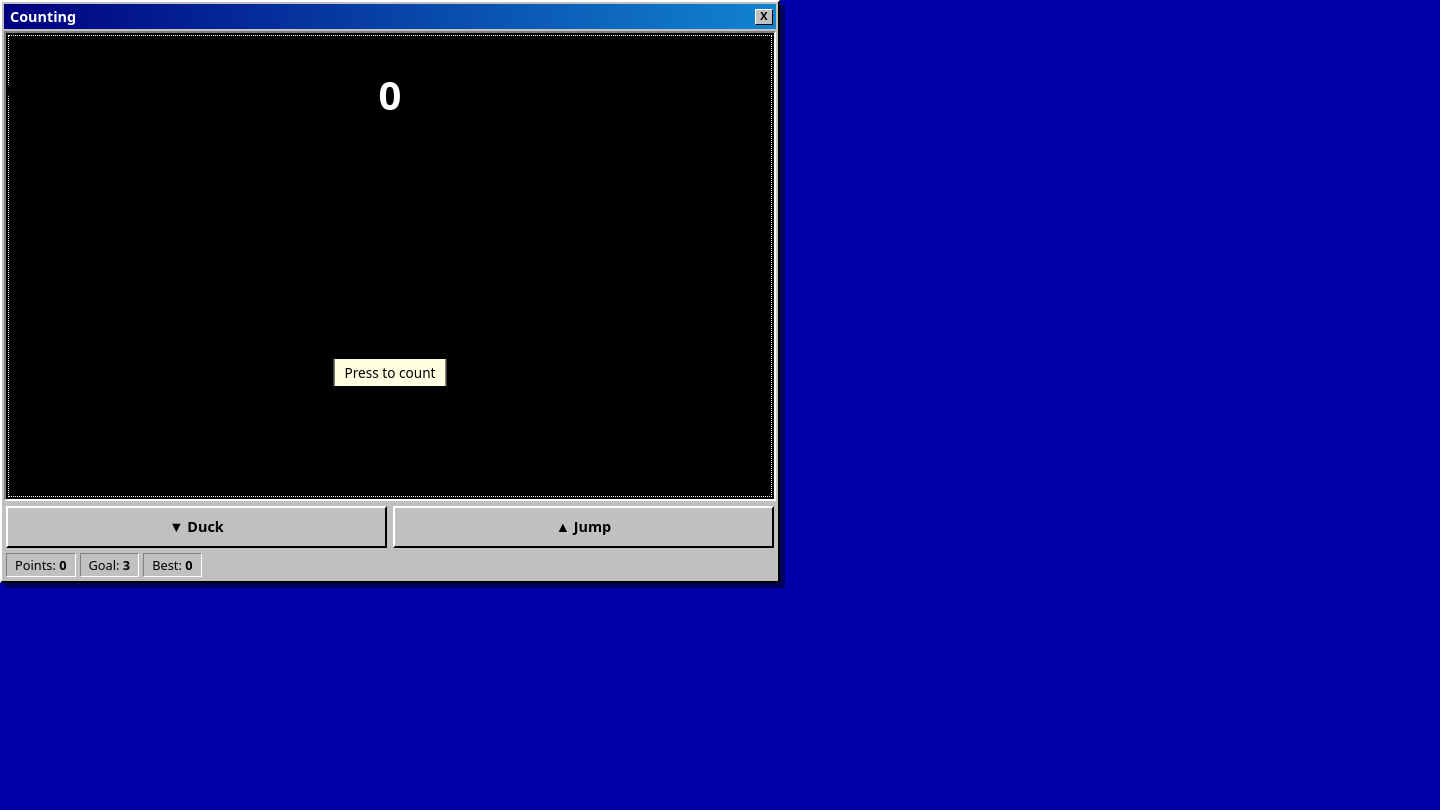
the window a game is played in › should start a new round on "Try again", from nothing
Press Space
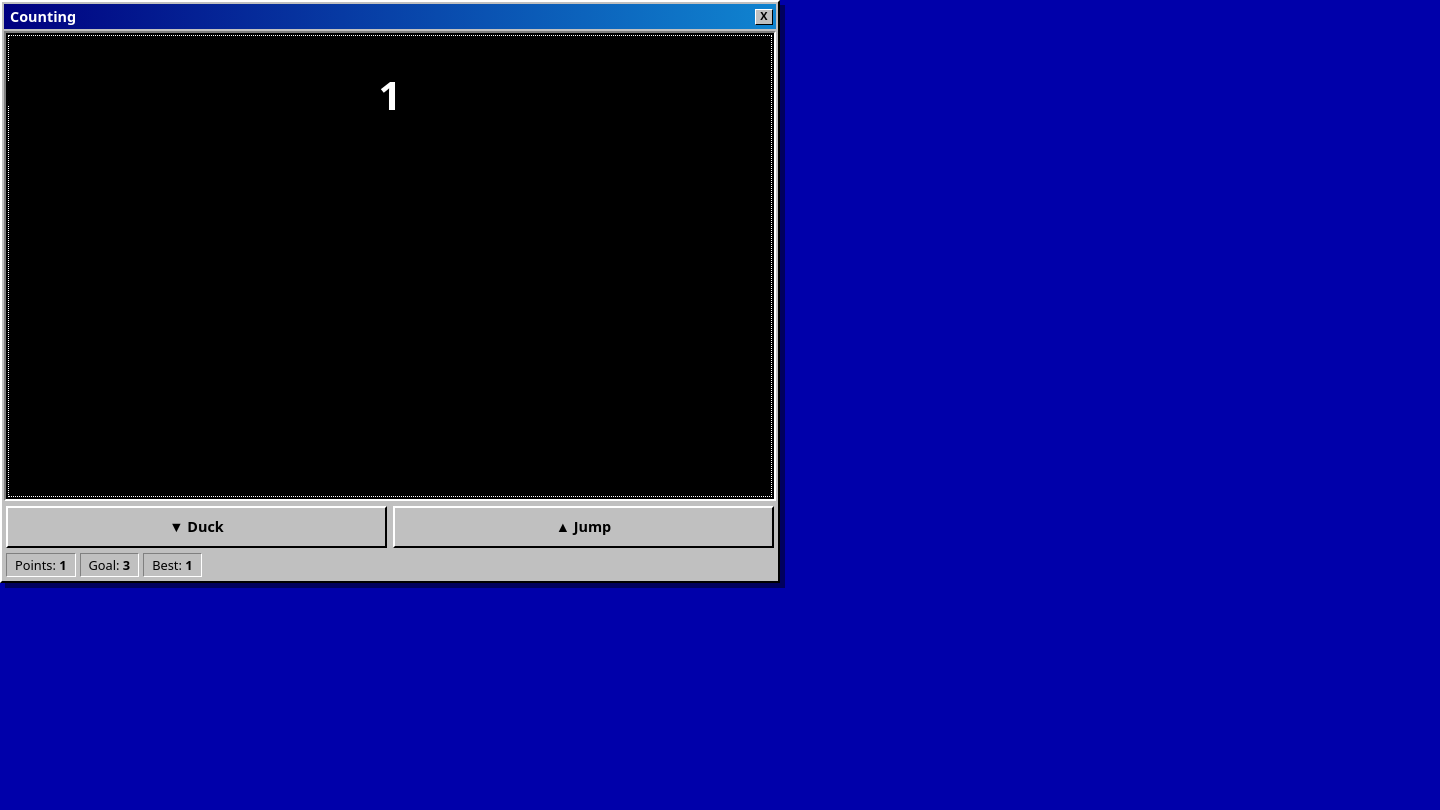
Result: the text "Points:" reads "Points: 1" at [6, 553, 76, 577]
Press Space
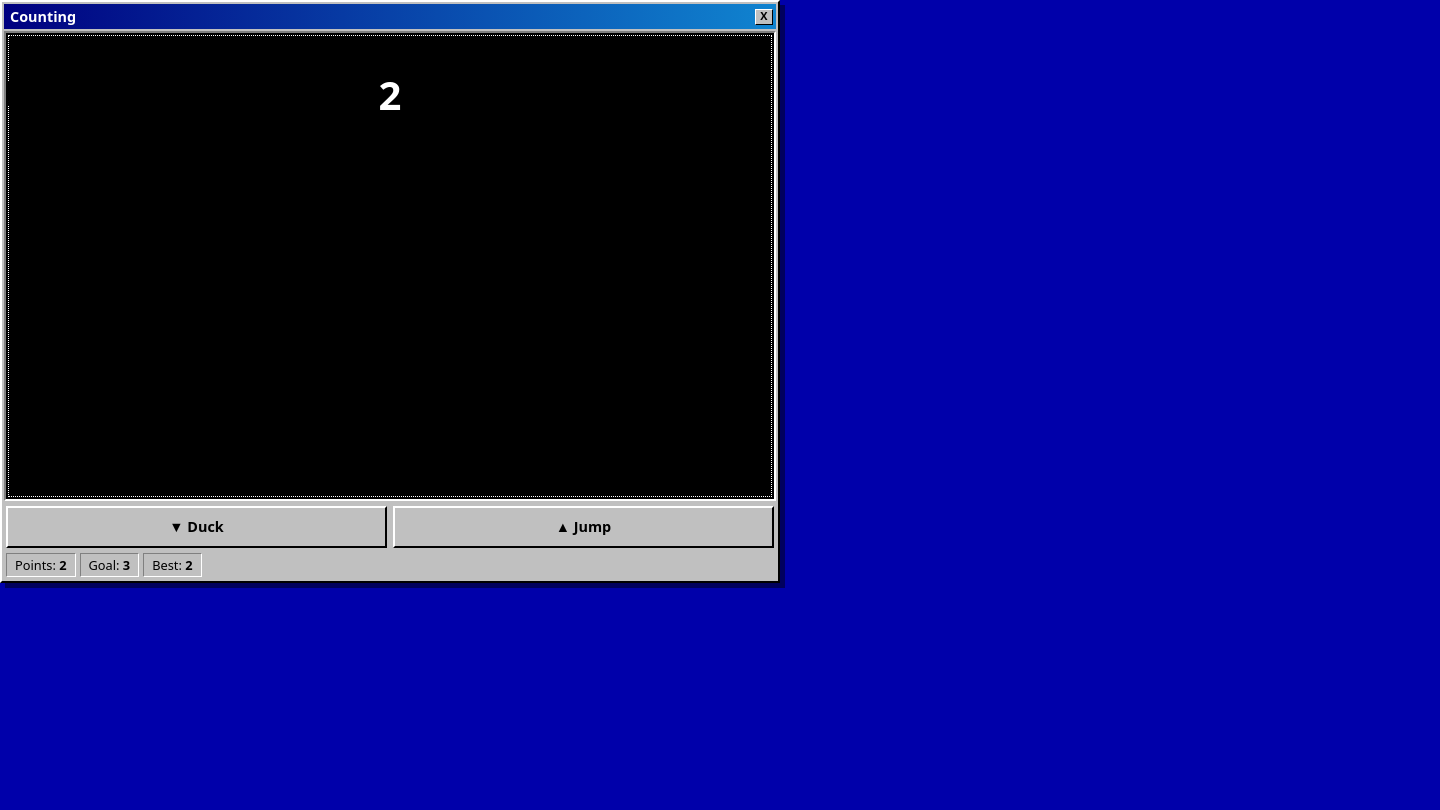
Result: the text "Points:" reads "Points: 2" at [6, 553, 76, 577]
Press ArrowDown
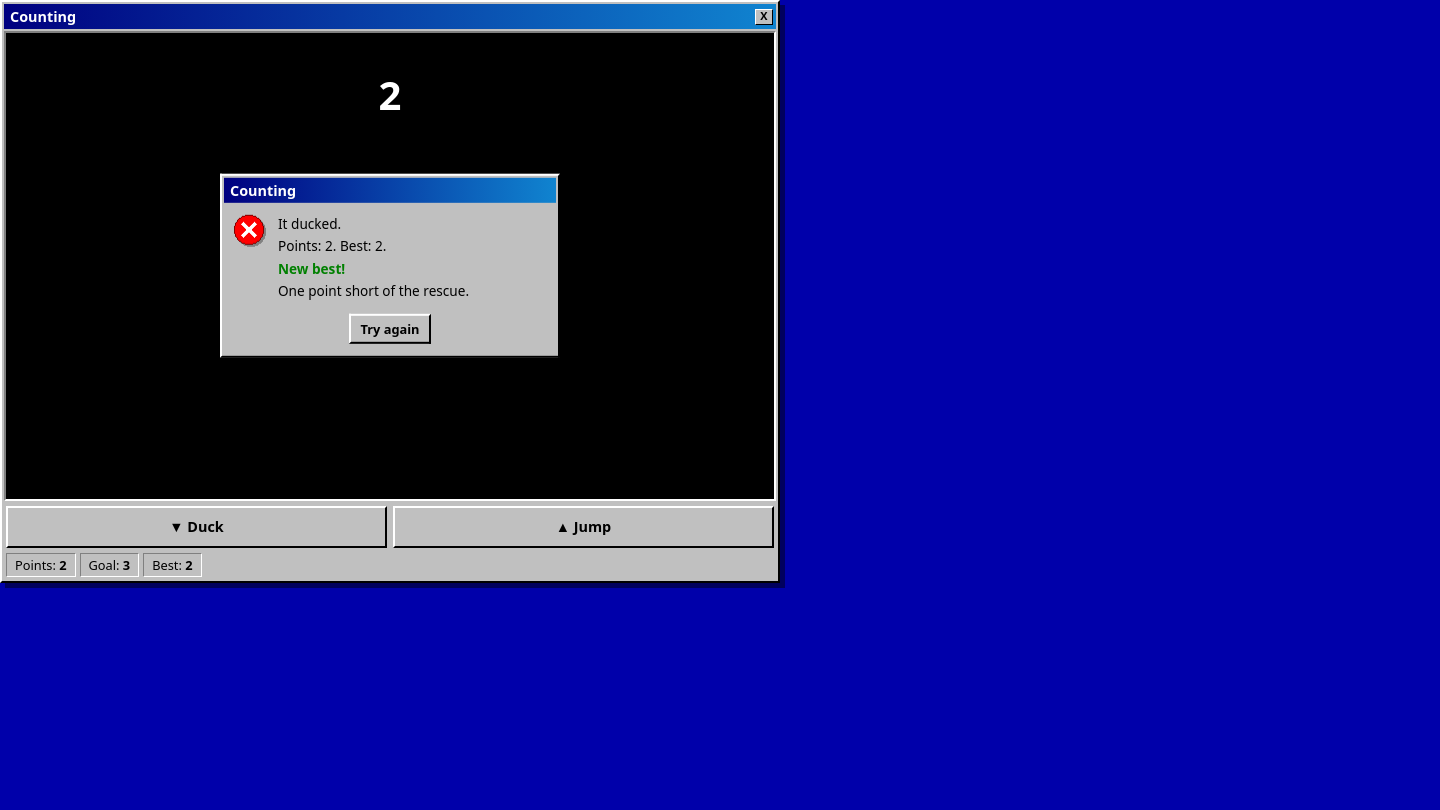
Click the button "Try again" at (390, 329), box [350, 314, 431, 344]
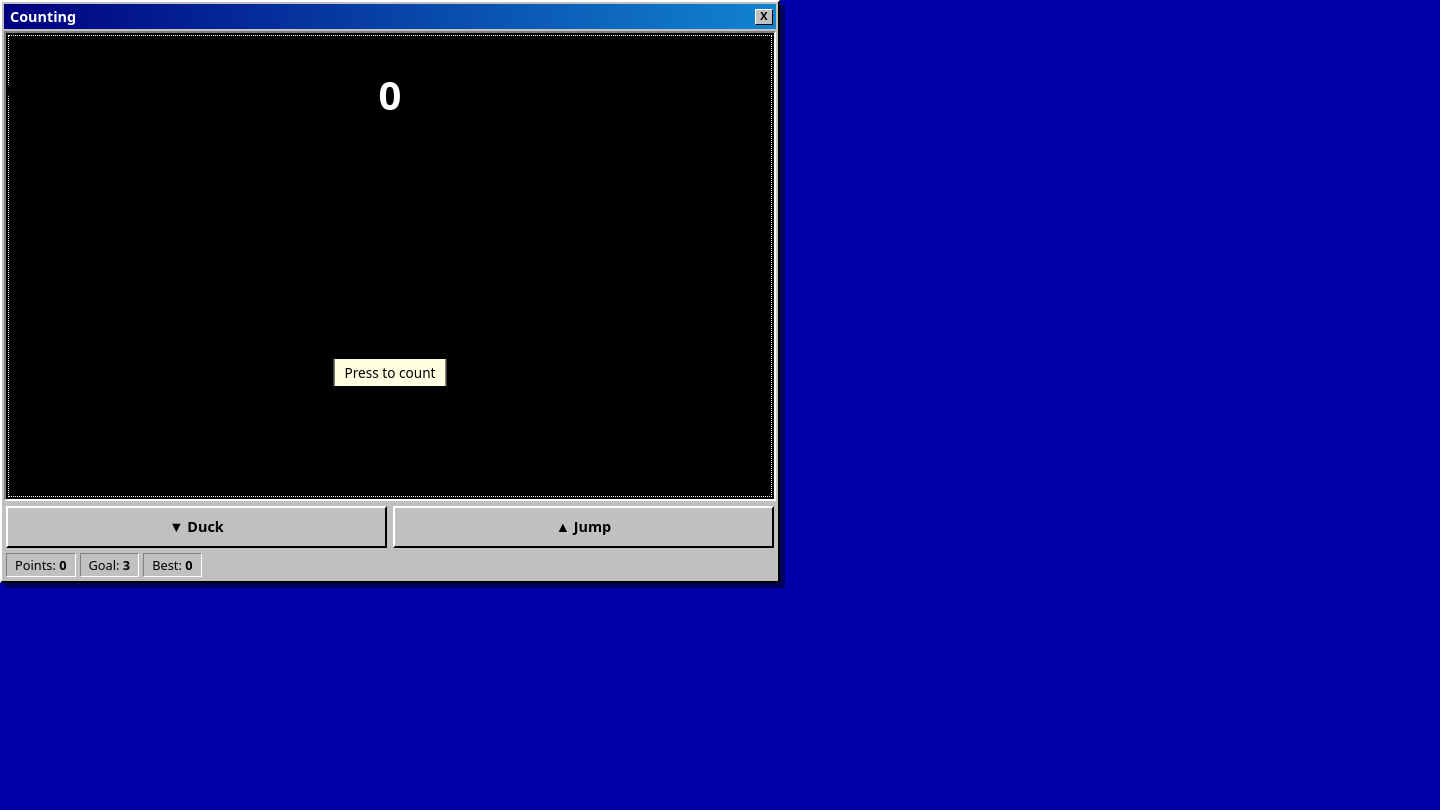
Result: the dialog is gone
Result: the text "Points:" reads "Points: 0" at [6, 553, 76, 577]
Result: the text "Press to count" is shown at [334, 358, 446, 387]
Press Space
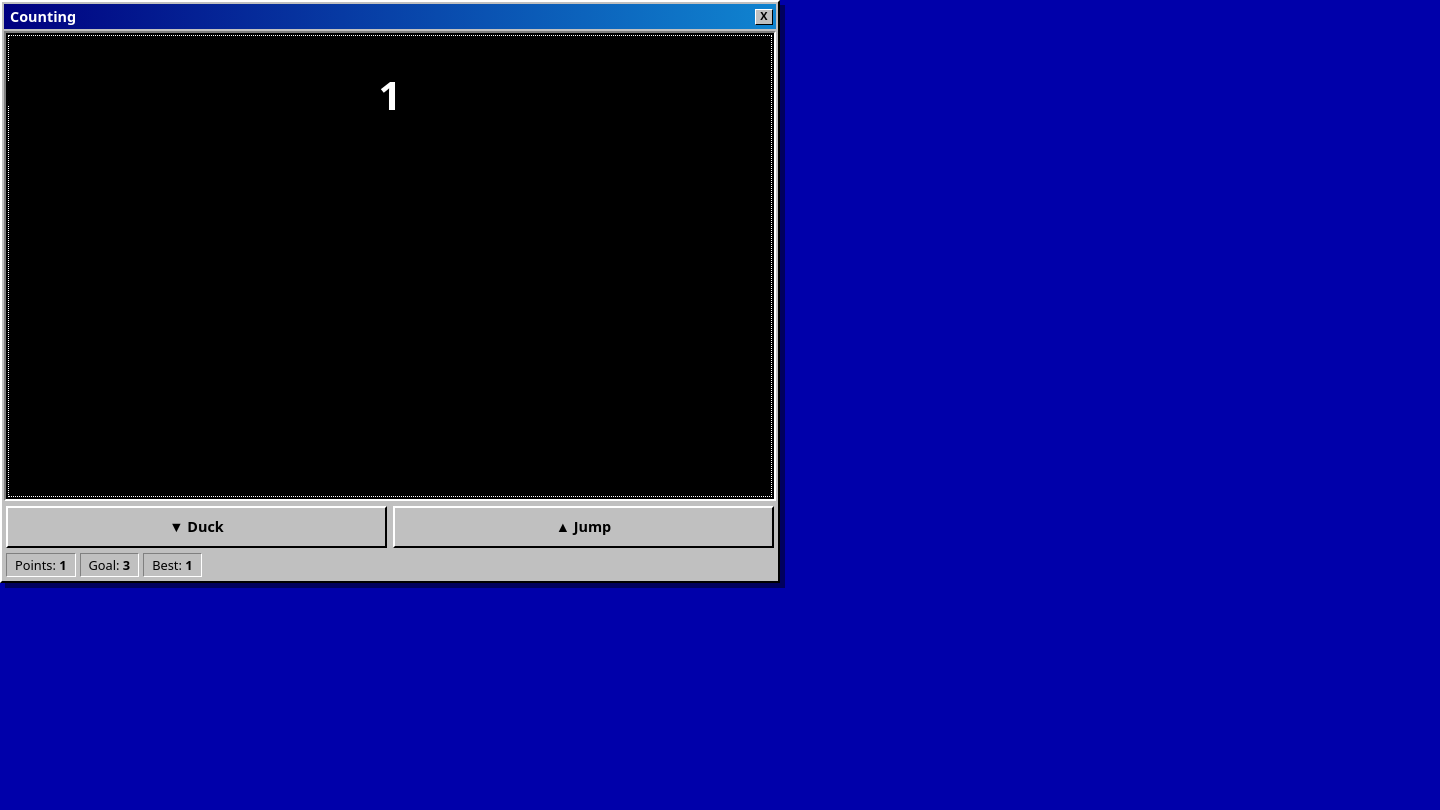
Result: the text "Points:" reads "Points: 1" at [6, 553, 76, 577]
